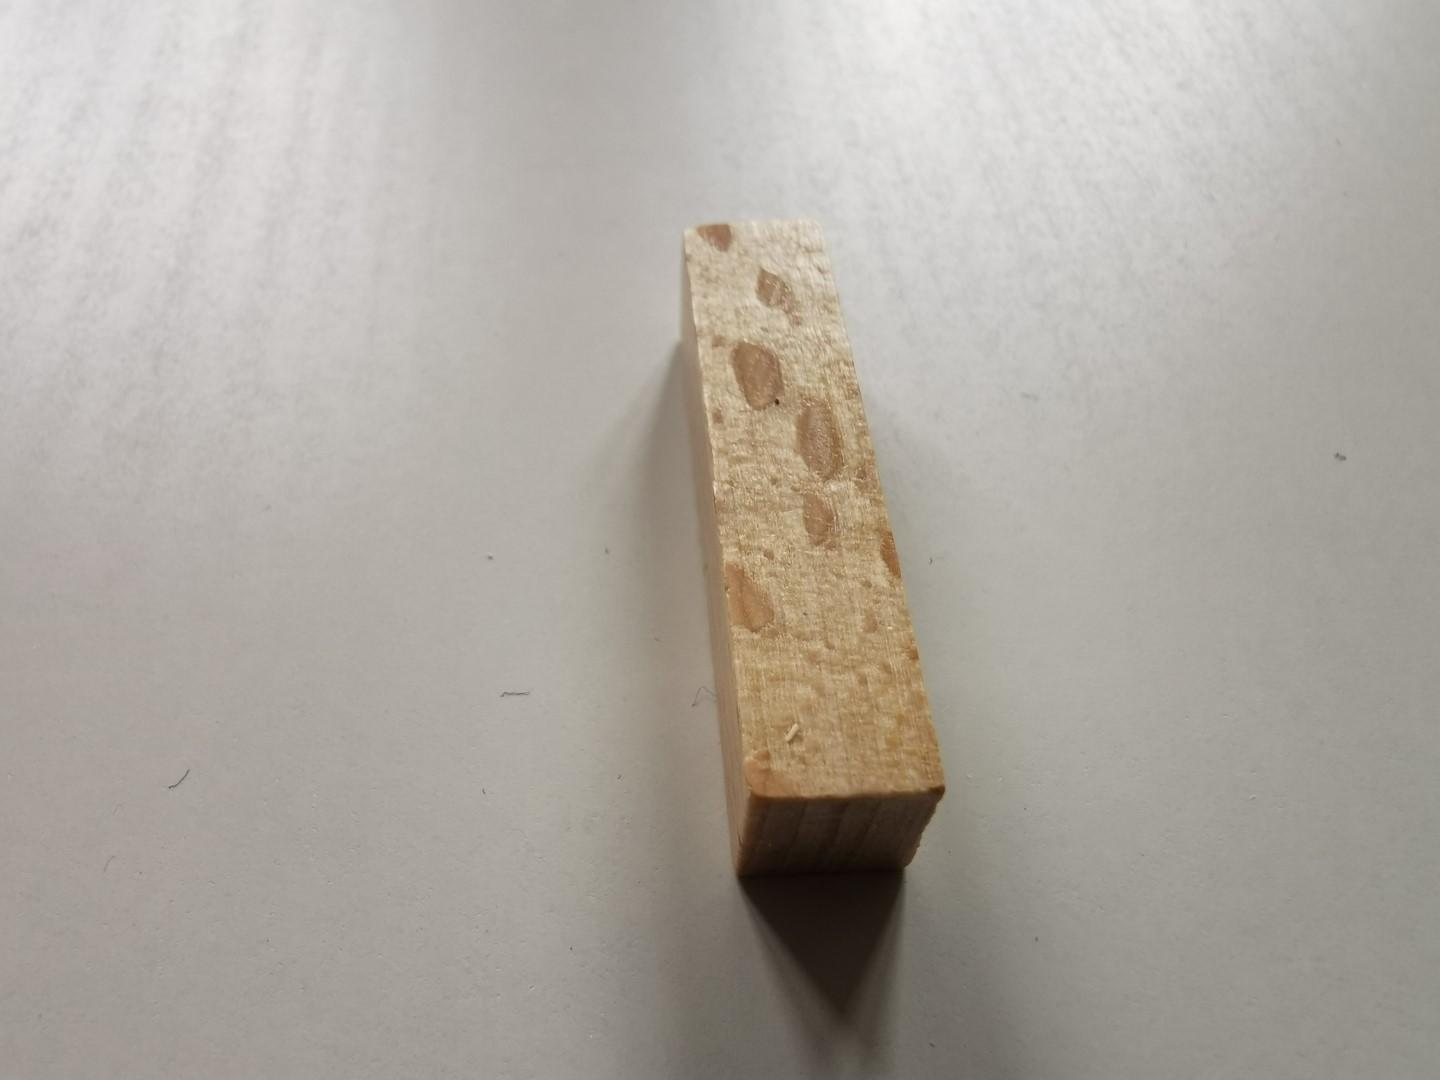jenga: (684, 219, 947, 877)
